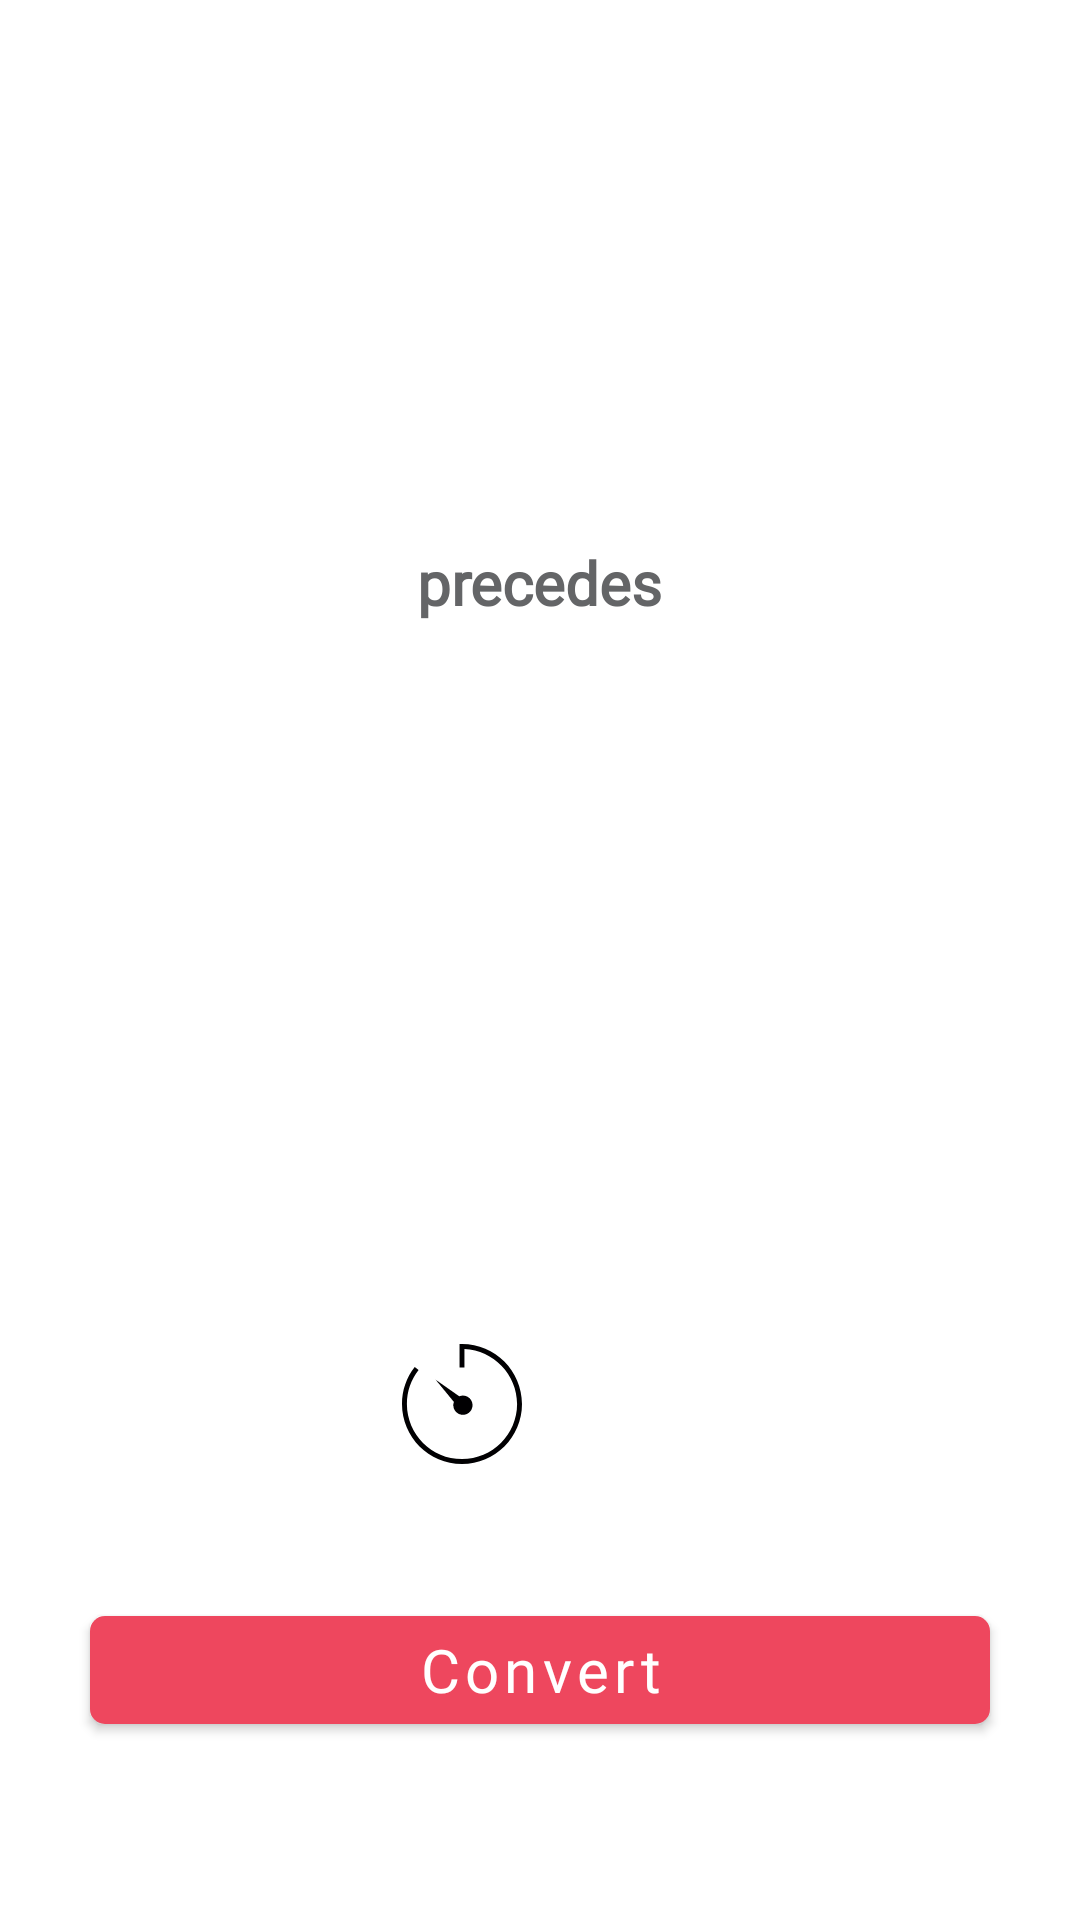

Where to tap for icons on this 1080*1920 app screen, as point (x, y):
count down timer: point (462, 1404)
